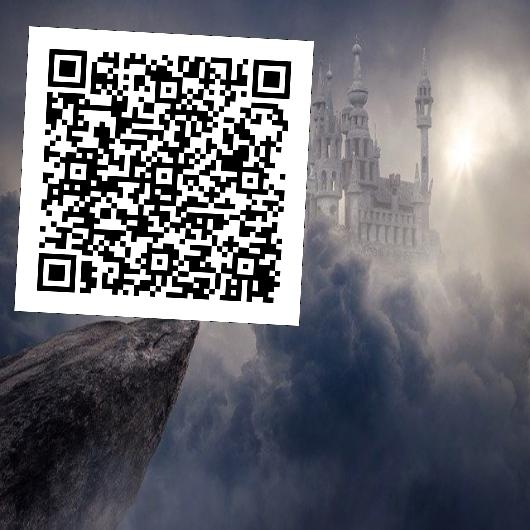qr_code: (14, 26, 313, 325)
